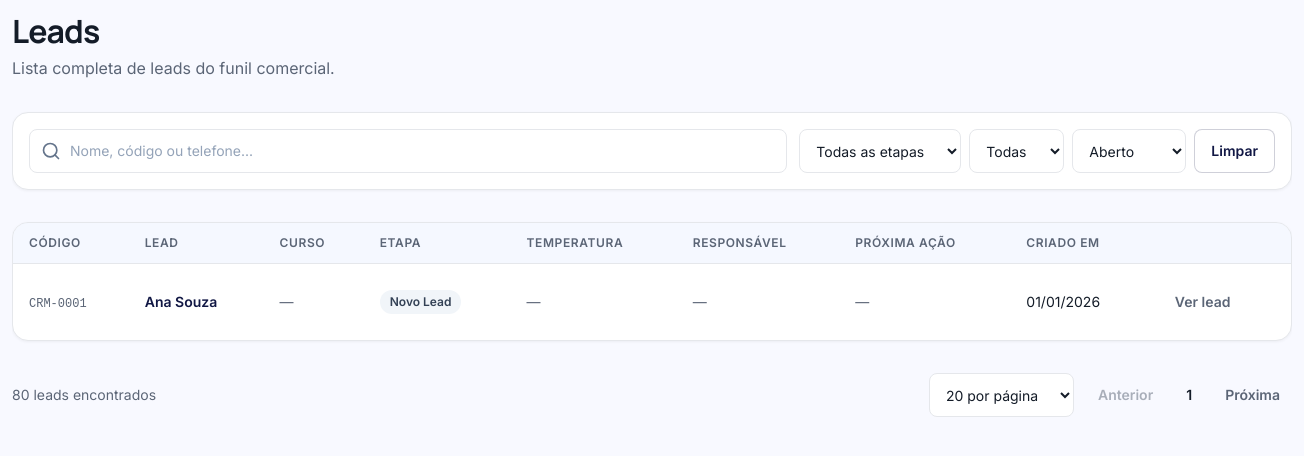
Test case: LeadsPage — paginação responsiva em 320px (Fase 11.2) › page size e navegação seguem funcionais e estrutura quebra em duas linhas no mobile
This screenshot has width=1304, height=456.
Select "50 por página" in the dropdown named "itens por página" at (1002, 395), box [929,373,1074,417]
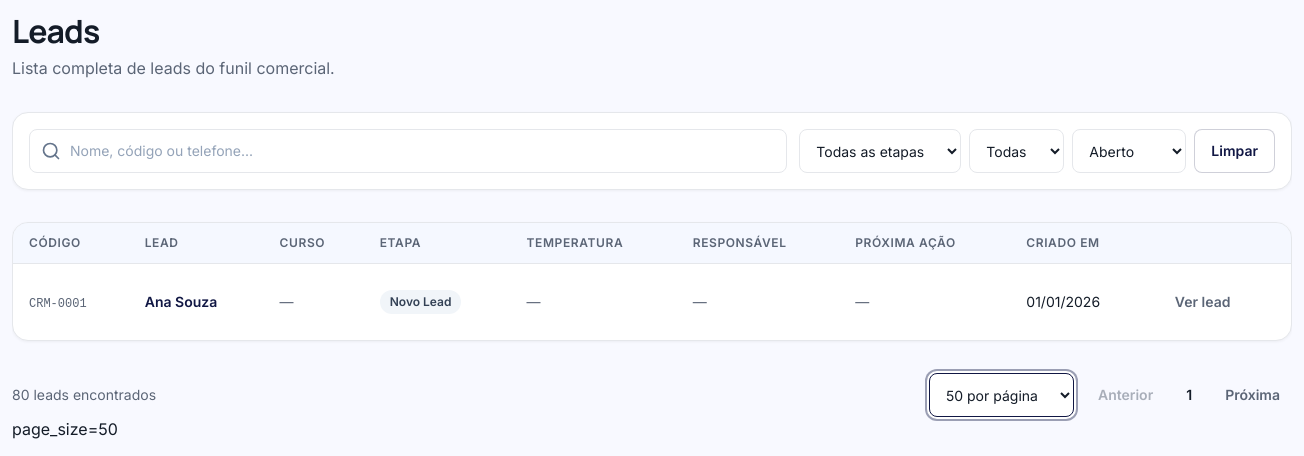
expect the text with test id "location-search" reads "page_size=50": met, box [12,419,118,439]
Click the button "Próxima" at (1253, 395), box [1213,373,1292,417]
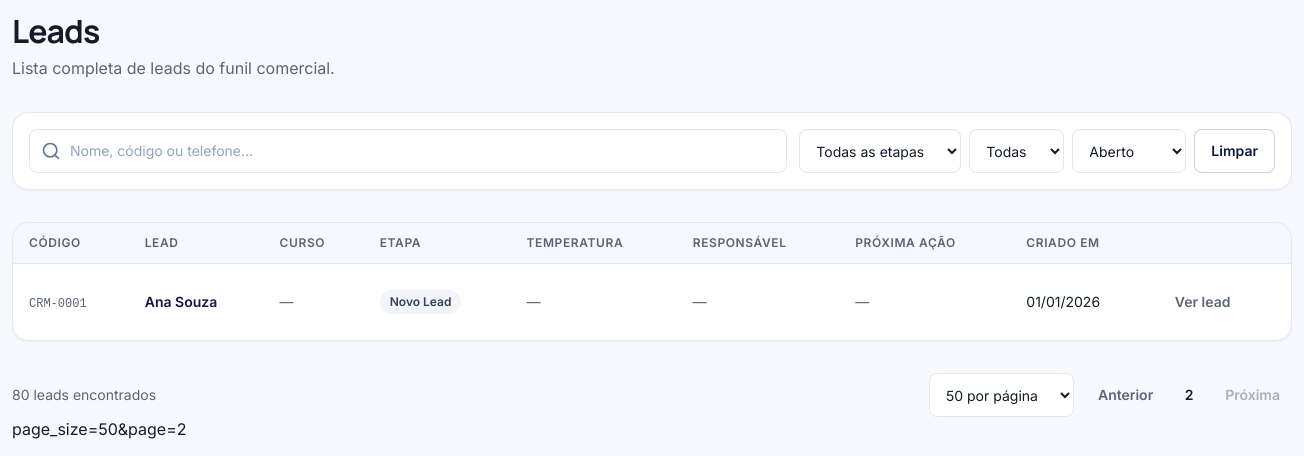
expect the text with test id "location-search" shows "page=2": met, box [12,419,186,439]
expect the button "Anterior" is enabled: met, box [1086,373,1165,417]
